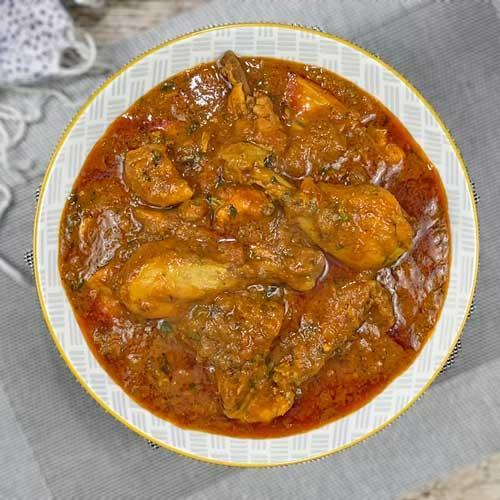chicken: (87, 62, 427, 421)
